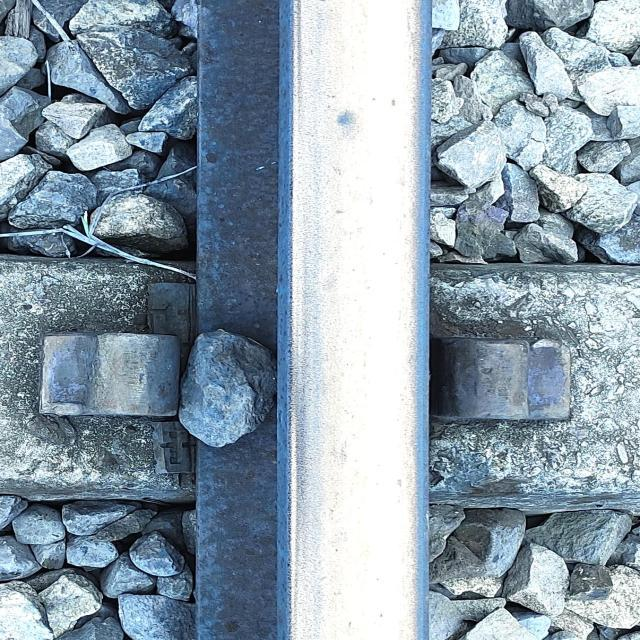Missing Fastener: (23, 317, 239, 464), (435, 312, 592, 442)
